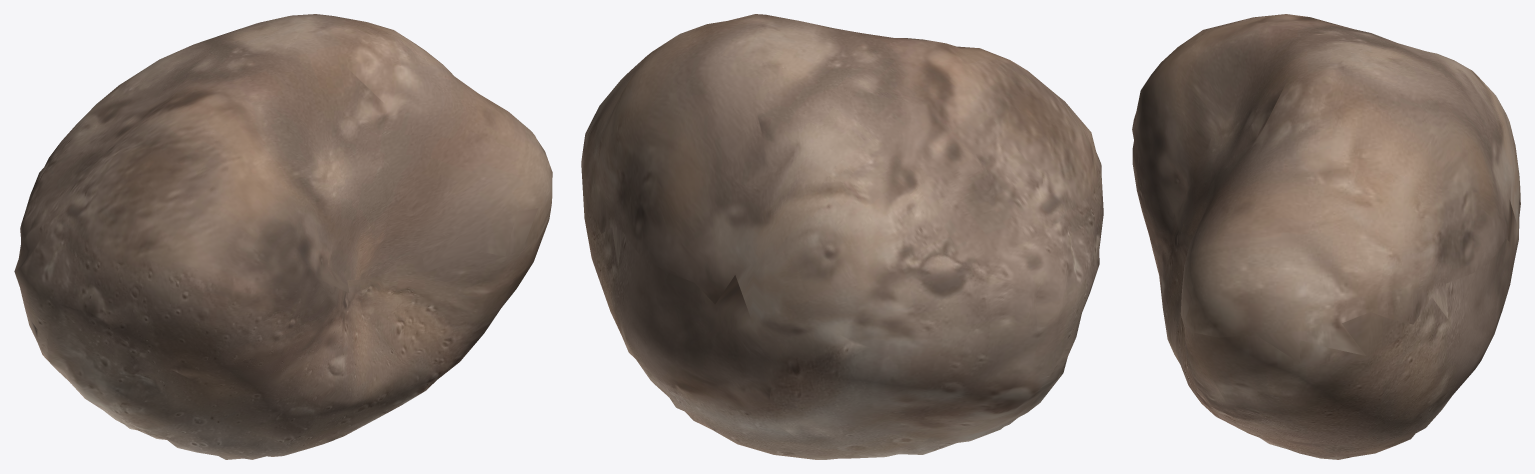
Rendered from deimos - thumbnail.dae.
3 renders of one model, left to right at view 1: azimuth 30°, elevation 25°; view 2: azimuth 150°, elevation 25°; view 3: azimuth 270°, elevation 25°, orthographic. The views are drawn at different scales.
Visible parts, largest first — view 1: GeoSphere0; view 2: GeoSphere0; view 3: GeoSphere0.
Boxes of the visible parts, bbox=[...] form: GeoSphere0: bbox=[14, 14, 552, 459]; GeoSphere0: bbox=[581, 14, 1103, 459]; GeoSphere0: bbox=[1132, 14, 1520, 459].
Size of the model in its own units: 1.59 by 1.11 by 1.27.
1 material, 1 textured.
